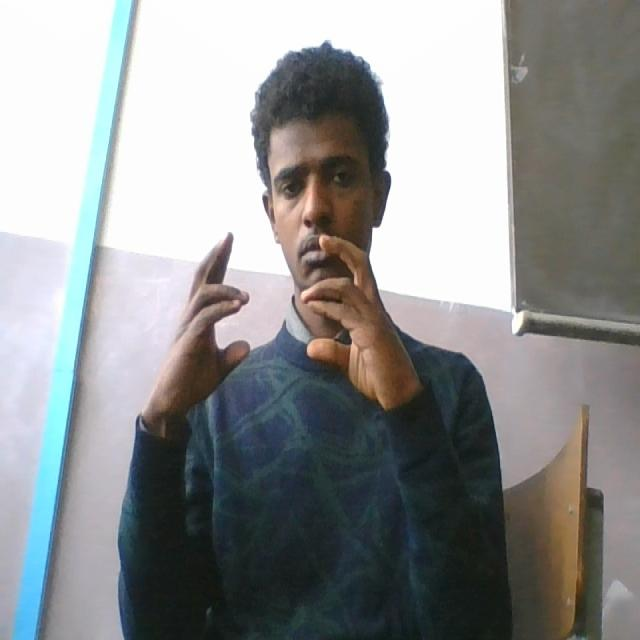sefer: (149, 227, 420, 421)
